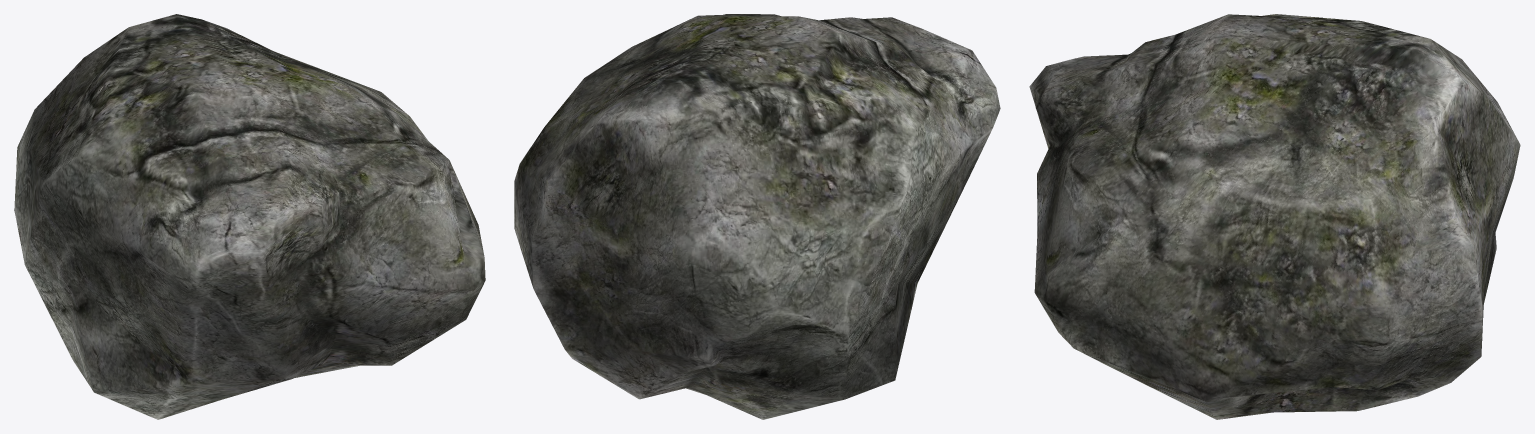
Rendered from Rock - Medium B-DphCF2IC.glb.
The picture shows the model from 3 angles, left to right: view 1: azimuth 30°, elevation 25°; view 2: azimuth 150°, elevation 25°; view 3: azimuth 270°, elevation 25°; orthographic projection. The views are drawn at different scales.
Visible parts, largest first — view 1: RHEF_RockMediumB; view 2: RHEF_RockMediumB; view 3: RHEF_RockMediumB.
Part boxes in pixels (x1,y1,x2,y2): RHEF_RockMediumB: (14,14,485,419); RHEF_RockMediumB: (514,14,1000,419); RHEF_RockMediumB: (1029,14,1520,419).
Size of the model in its own units: 5.59 by 4.9 by 6.18.
1 material, 1 textured.
